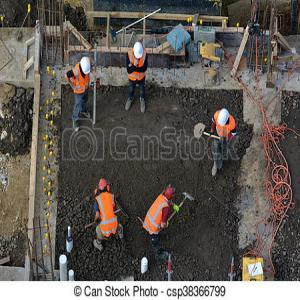red: (99, 178, 109, 195), (166, 185, 175, 202)
white: (80, 58, 92, 78), (219, 109, 230, 129), (134, 43, 144, 62)
